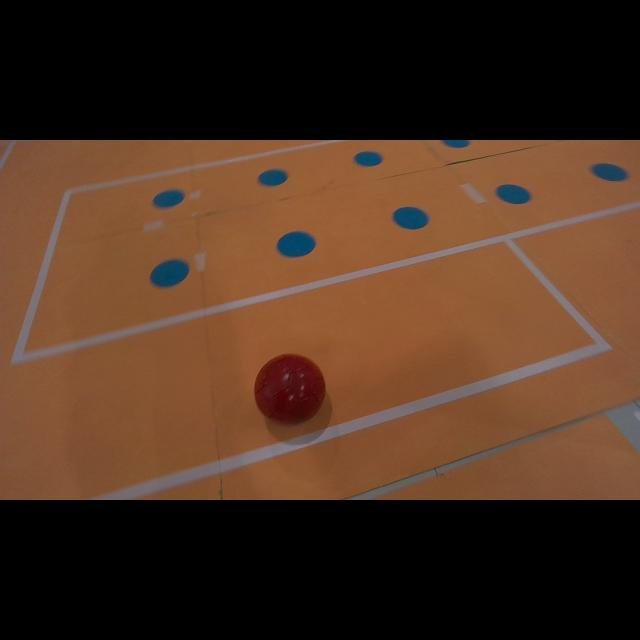R: (254, 354, 325, 426)
